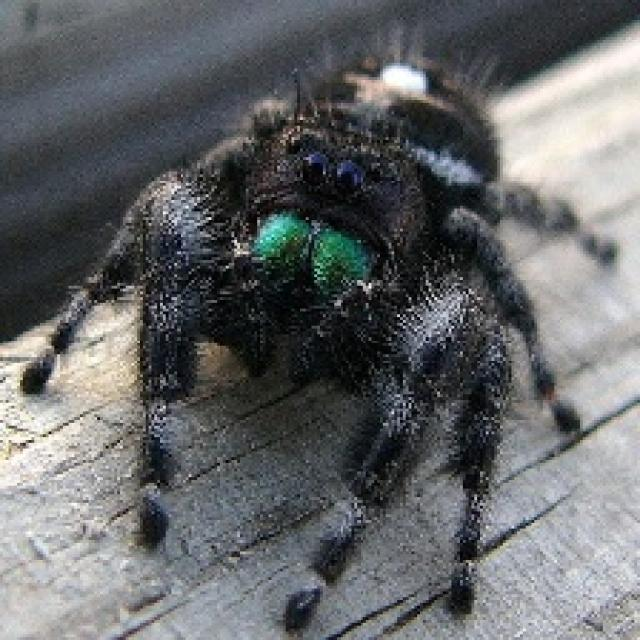Non venomous spider: (13, 14, 612, 640)
